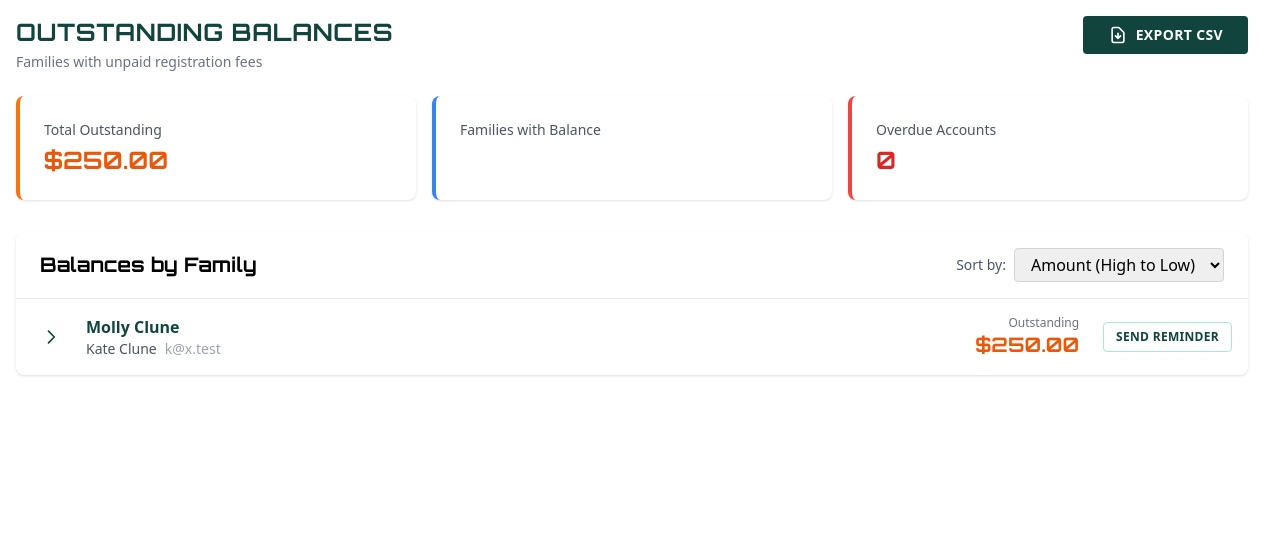
it: a coach-shaped context draws no scholarship control at all
The image size is (1265, 543).
Check: the link "Molly Clune" is shown, box x1=86 y1=315 x2=180 y2=339
Click the button named "Expand".
click(51, 337)  # box x1=32 y1=318 x2=70 y2=356
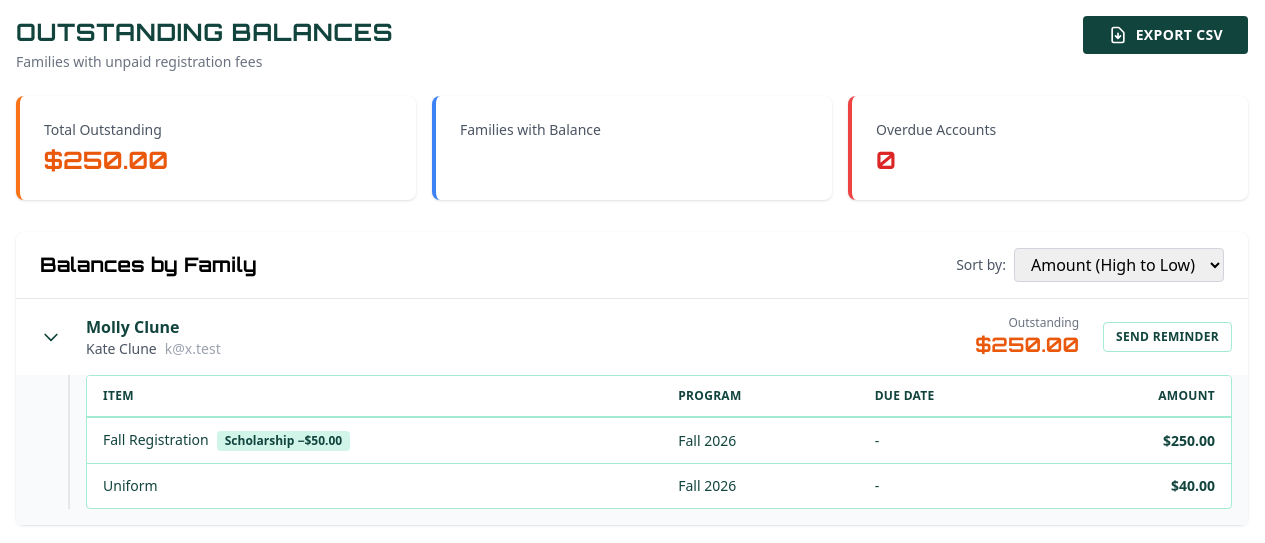
Check: the text "Fall Registration" is shown, box x1=103 y1=430 x2=209 y2=449
